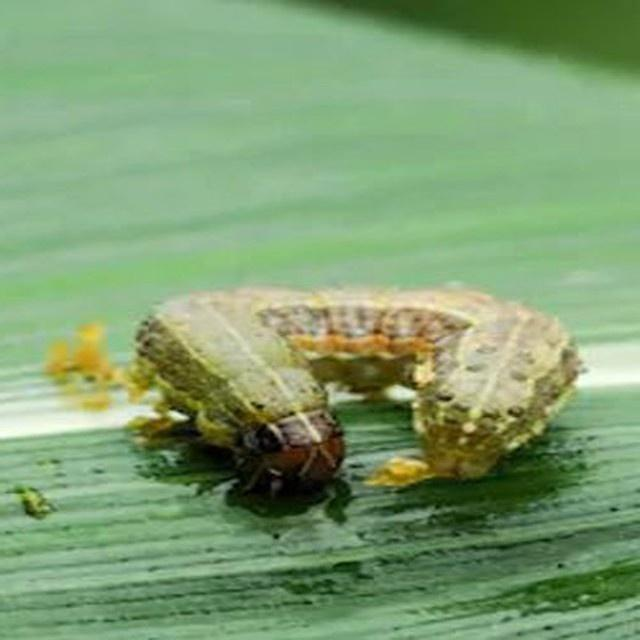gusano_cogollero: (129, 280, 582, 519)
